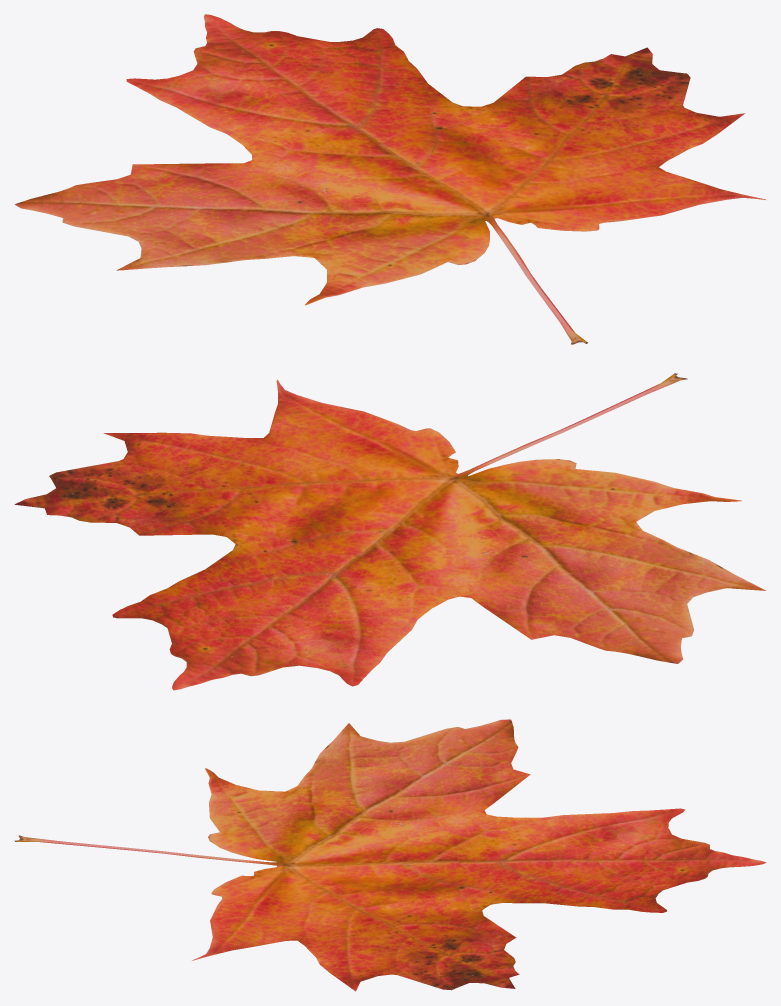
The model's file is fall_leaf.glb.
3 renders of one model, top to bottom at view 1: azimuth 30°, elevation 25°; view 2: azimuth 150°, elevation 25°; view 3: azimuth 270°, elevation 25°, orthographic. The views are drawn at different scales.
Visible parts, largest first — view 1: Autumn_leaf; view 2: Autumn_leaf; view 3: Autumn_leaf.
Boxes of the visible parts, x1,y1,x2,y2 form: Autumn_leaf: (15, 14, 766, 344); Autumn_leaf: (14, 373, 765, 690); Autumn_leaf: (14, 719, 766, 991).
Size of the model in its own units: 0.6734 by 0 by 0.7869.
Materials: 1 (1 with a texture image).
